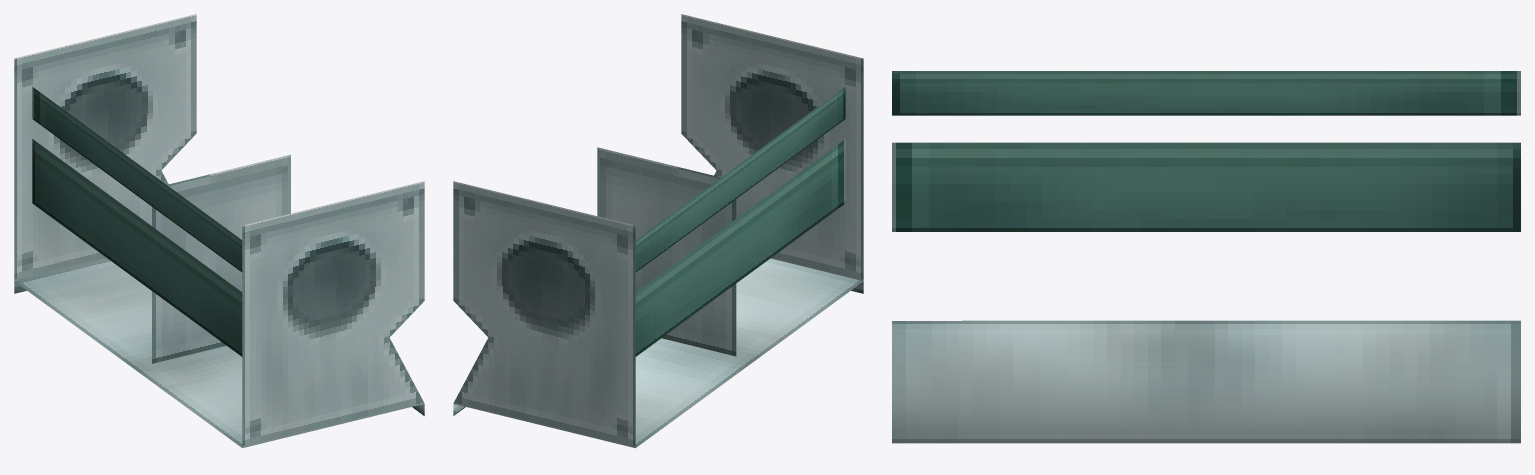
The model's file is a_SCgen04.glb.
3 renders of one model, left to right at view 1: azimuth 30°, elevation 25°; view 2: azimuth 150°, elevation 25°; view 3: azimuth 270°, elevation 25°, orthographic. The views are drawn at different scales.
Visible parts, largest first — view 1: a_SCgen04; view 2: a_SCgen04; view 3: a_SCgen04.
Boxes of the visible parts, <box> form: a_SCgen04: <box>14,14,424,448</box>; a_SCgen04: <box>453,14,863,448</box>; a_SCgen04: <box>892,71,1520,443</box>.
Size of the model in its own units: 0.3 by 0.37 by 0.65.
Materials: 1 (1 with a texture image).
